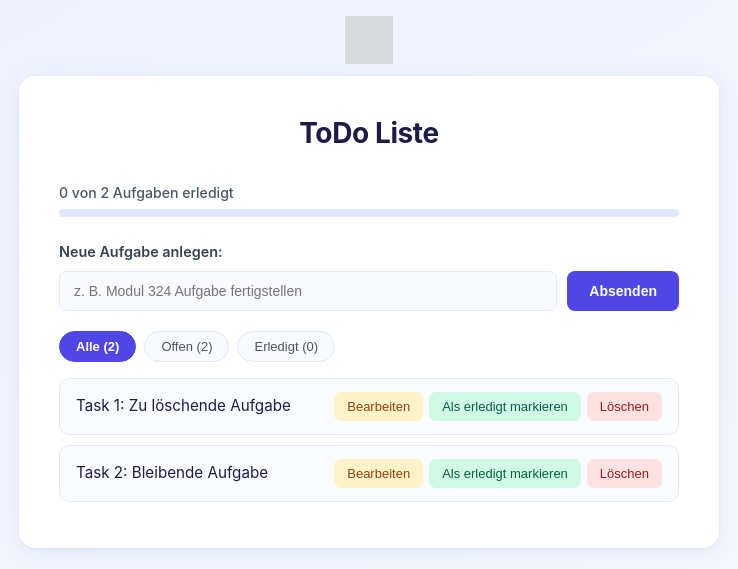
App › löscht eine Aufgabe per DELETE und entfernt sie nach dem Neuladen aus der Liste
Expected: the text "Task 1: Zu löschende Aufgabe" is shown, [76, 396, 291, 415]
Click the button "Löschen" in the row of "Task 1: Zu löschende Aufgabe": (624, 406) [587, 392, 662, 421]
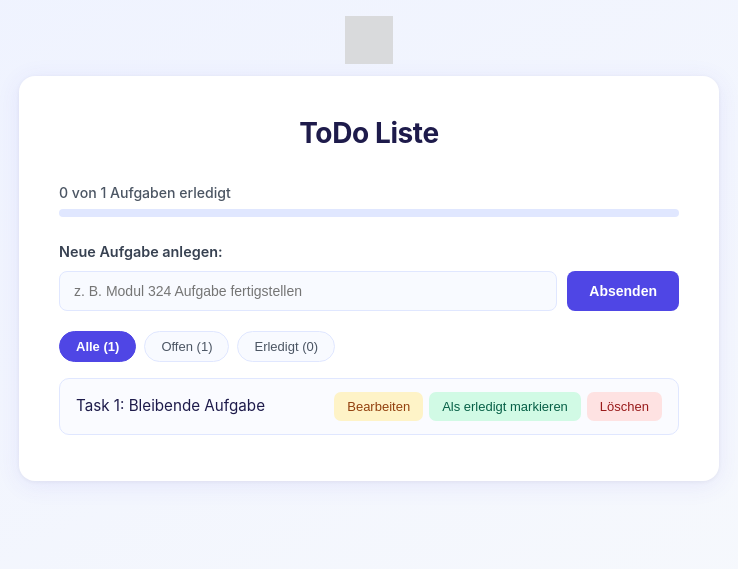
Now the text "Task 1: Bleibende Aufgabe" is shown, box [76, 396, 265, 415]
Now the text "Zu löschende Aufgabe" is gone
